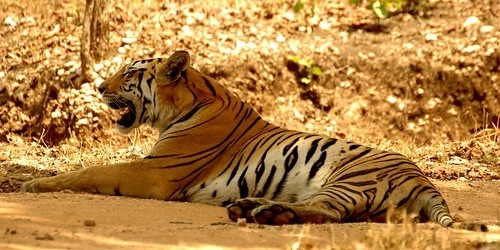tigre: (22, 50, 478, 226)
